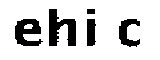c: (116, 15, 146, 51)
e: (10, 16, 44, 50)
h: (45, 6, 79, 50)
i: (83, 7, 105, 51)
